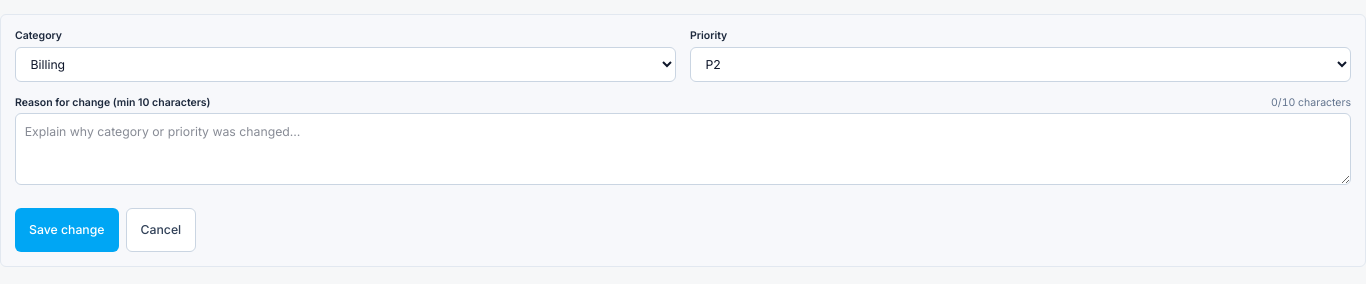
Test case: ChangeReviewForm › character counter updates dynamically as user types
Expected: the text "0/10 characters" is shown, [1271,96,1351,110]
Type "Hello world" into the text box labelled "Reason for change (min 10 characters)". click: (683, 149)
box: [15,113,1351,185]
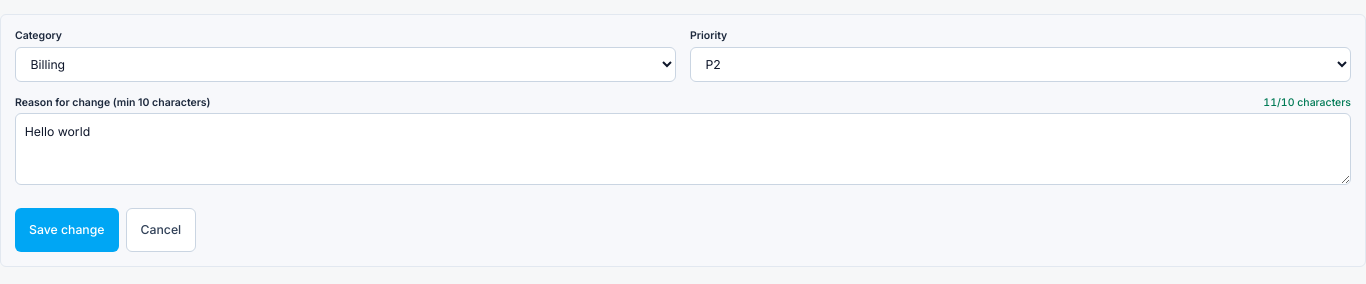
Result: the text "11/10 characters" is shown at [1263,96,1351,110]
